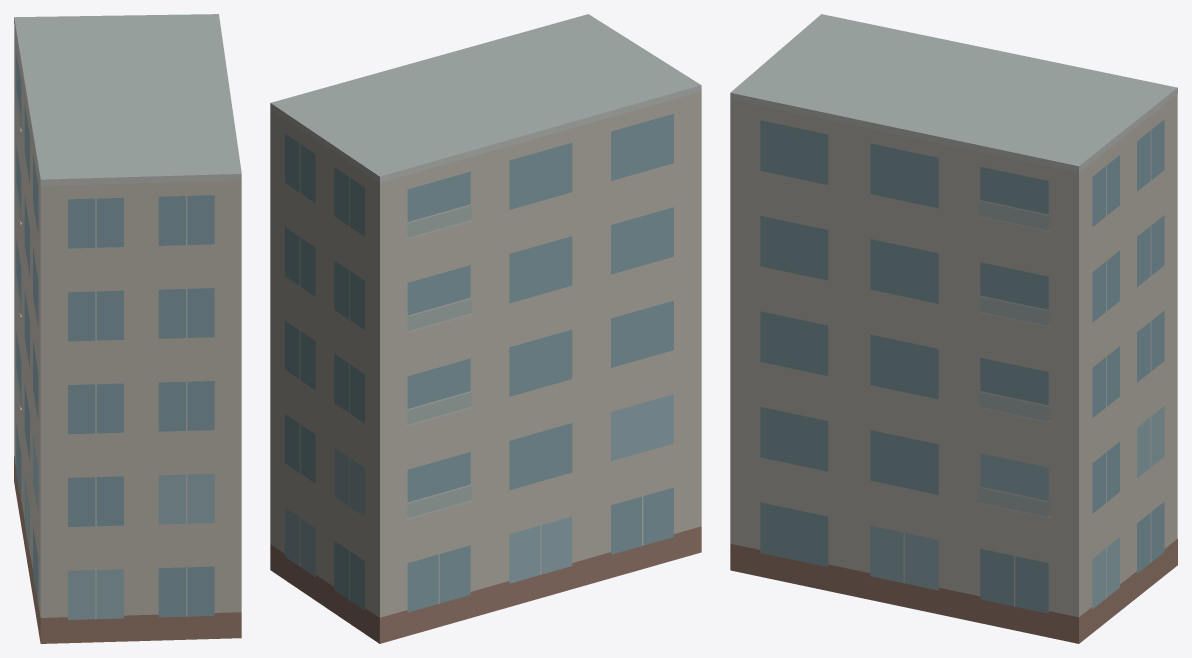
File: survey-upis-32966874.glb
The picture shows the model from 3 angles, left to right: view 1: azimuth 30°, elevation 25°; view 2: azimuth 150°, elevation 25°; view 3: azimuth 270°, elevation 25°; orthographic projection. The views are drawn at different scales.
Parts seen in each view (by area): view 1: survey-upis-32966874.tmp; view 2: survey-upis-32966874.tmp; view 3: survey-upis-32966874.tmp.
Part boxes in pixels (box(x1,y1,x2,y2)): survey-upis-32966874.tmp: box(14, 14, 241, 643); survey-upis-32966874.tmp: box(270, 14, 701, 643); survey-upis-32966874.tmp: box(730, 14, 1177, 643).
Size of the model in its own units: 12.38 by 18.1 by 15.38.
